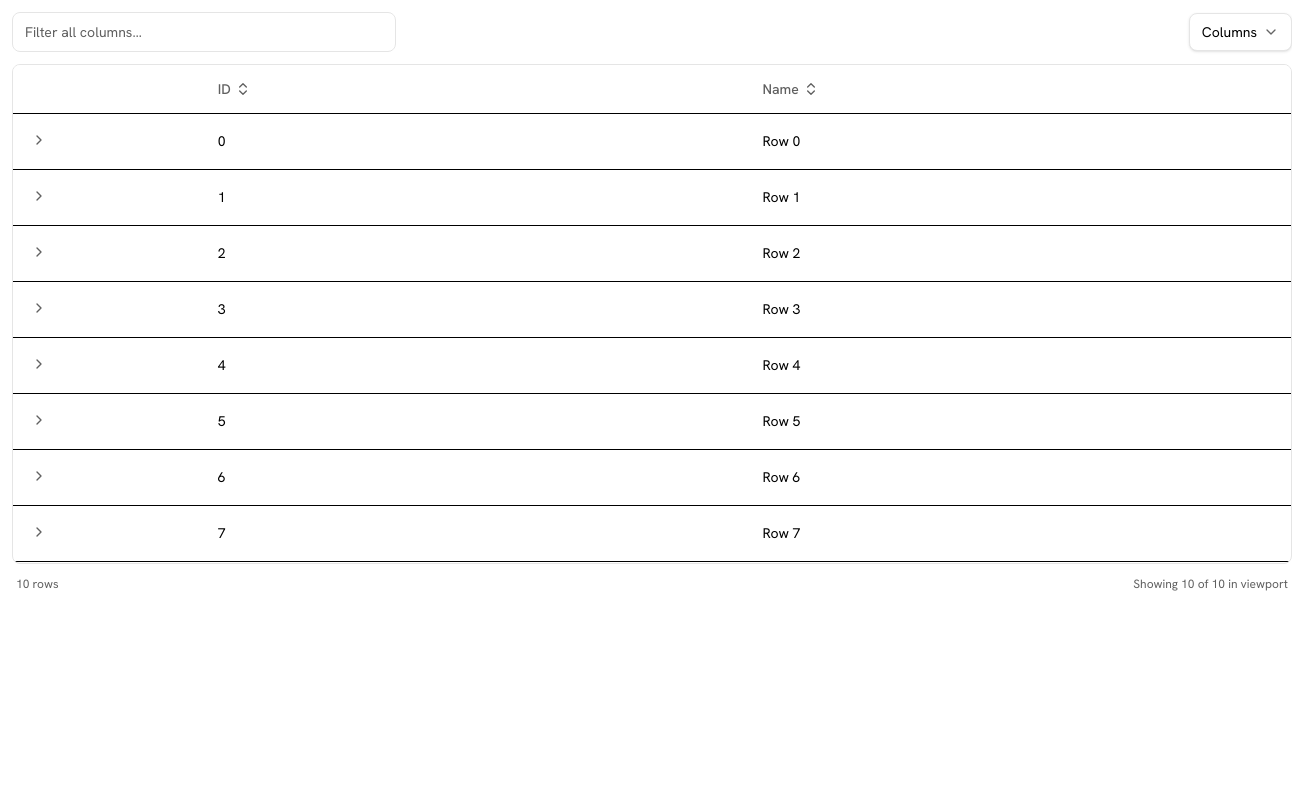
DataTable expandable rows (Epic 23) › keeps every row visible and in order after expanding an early row (virtualizer count must track flatItems, not rows)
The image size is (1304, 812).
Click the button named "Expand row" in the row of "Row 1". click: [39, 196]
box: [29, 186, 49, 206]
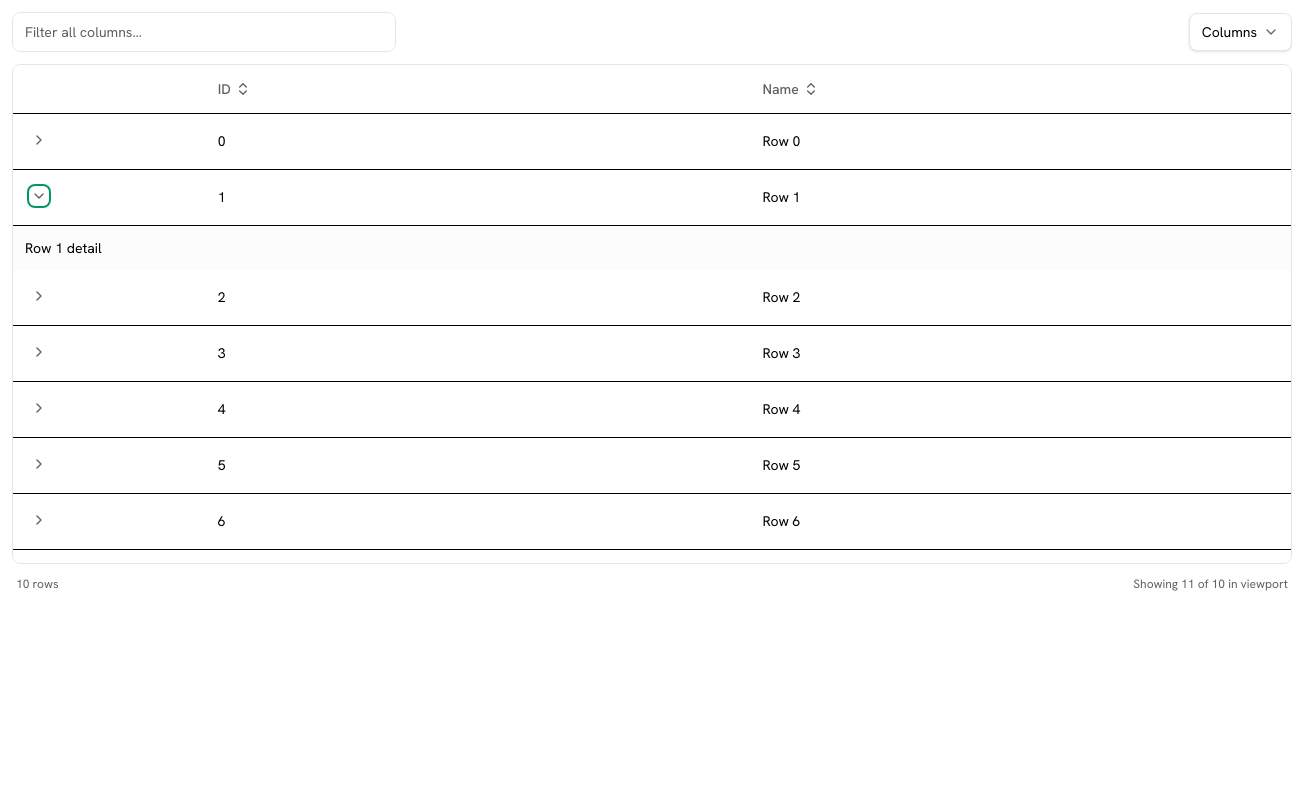
Now the text "Row 1 detail" is shown, box [25, 238, 102, 256]
